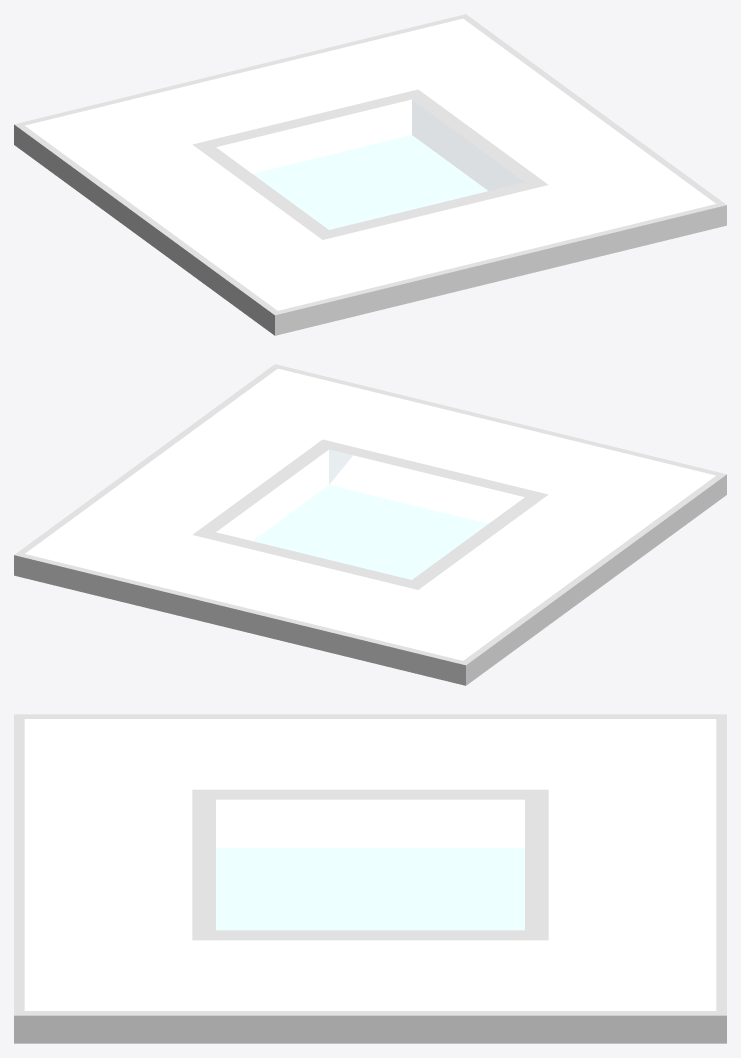
File: 120-island.glb
The picture shows the model from 3 angles, top to bottom: view 1: azimuth 30°, elevation 25°; view 2: azimuth 150°, elevation 25°; view 3: azimuth 270°, elevation 25°; orthographic projection. The views are drawn at different scales.
Parts seen in each view (by area): view 1: 120_island_nature_connect_; view 2: 120_island_nature_connect_; view 3: 120_island_nature_connect_.
Part boxes in pixels (x1,y1,x2,y2): 120_island_nature_connect_: [14, 14, 726, 335]; 120_island_nature_connect_: [14, 364, 726, 685]; 120_island_nature_connect_: [14, 714, 726, 1043].
Bounding box in the file's own units: 1.2 × 0.12 × 1.2.
